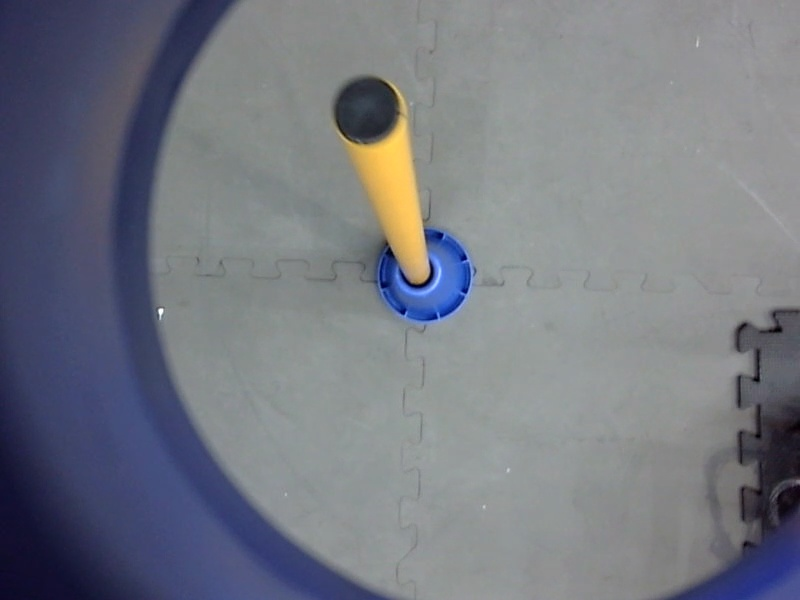tip: (327, 71, 412, 152)
